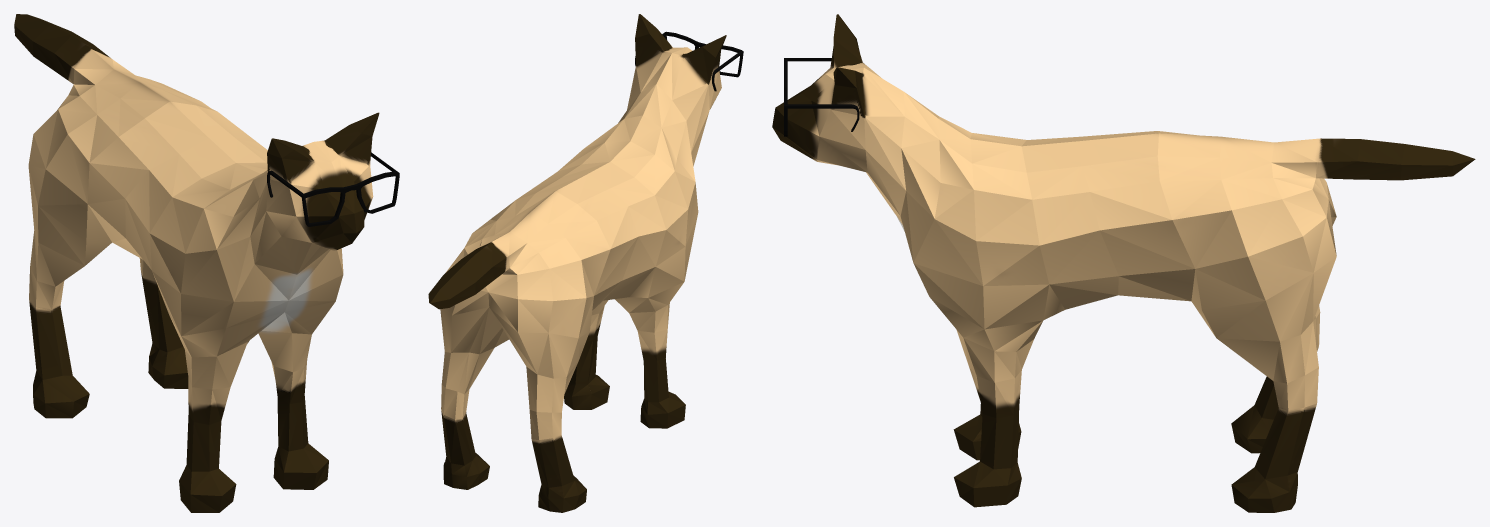
Rendered from jitthecat.dae.
3 renders of one model, left to right at view 1: azimuth 30°, elevation 25°; view 2: azimuth 150°, elevation 25°; view 3: azimuth 270°, elevation 25°, orthographic. The views are drawn at different scales.
Visible parts, largest first — view 1: Jit-the-Cat; view 2: Jit-the-Cat; view 3: Jit-the-Cat.
Part boxes in pixels (left/top/right/bottom): Jit-the-Cat: left=14, top=14, right=399, bottom=512; Jit-the-Cat: left=428, top=14, right=743, bottom=512; Jit-the-Cat: left=772, top=14, right=1475, bottom=512.
Size of the model in its own units: 1.58 by 5.64 by 3.83.
Materials: 2 (1 with a texture image).
